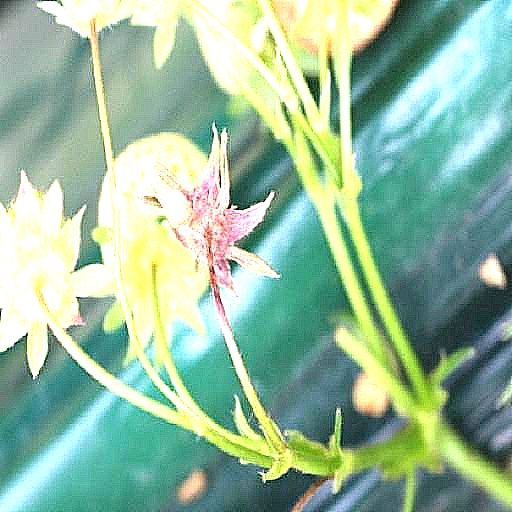Gray Mold: (234, 213, 376, 386)
